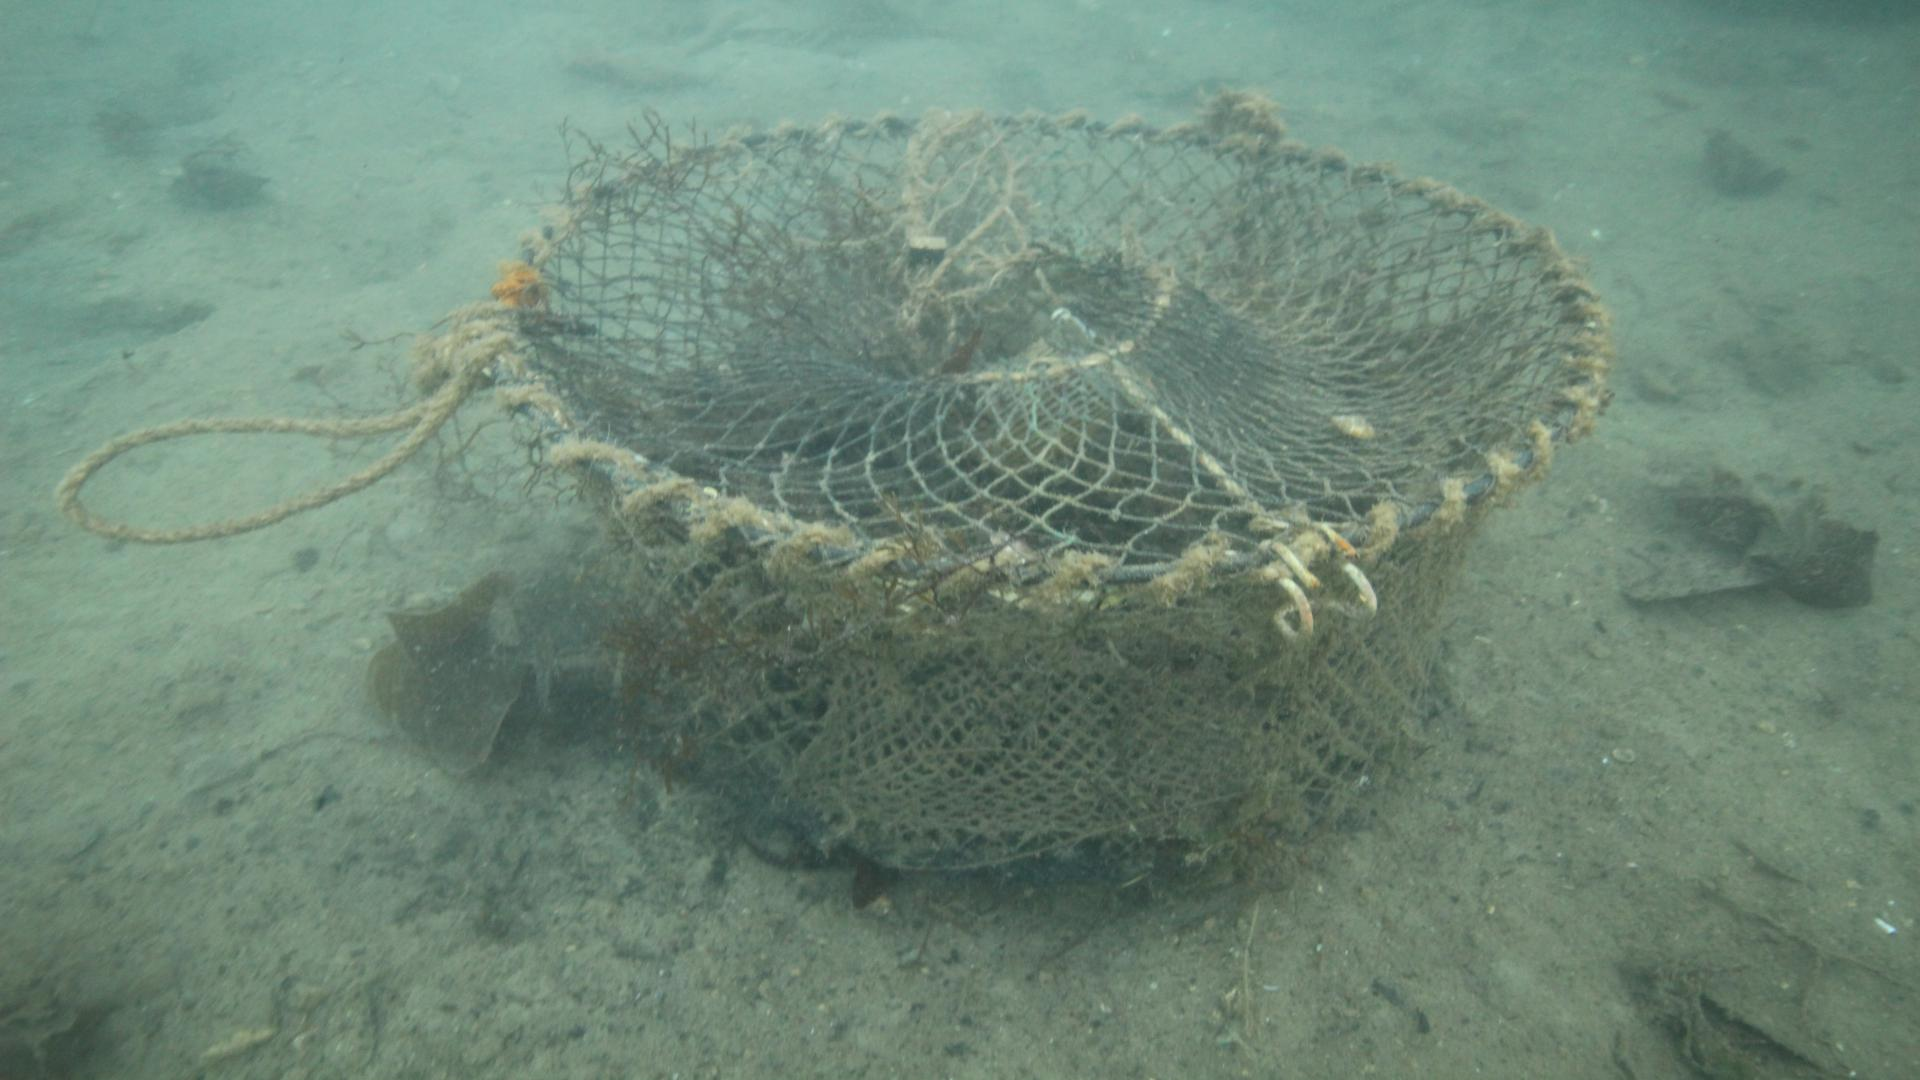circular fish trap: (491, 107, 1611, 869)
rope: (58, 367, 465, 550)
